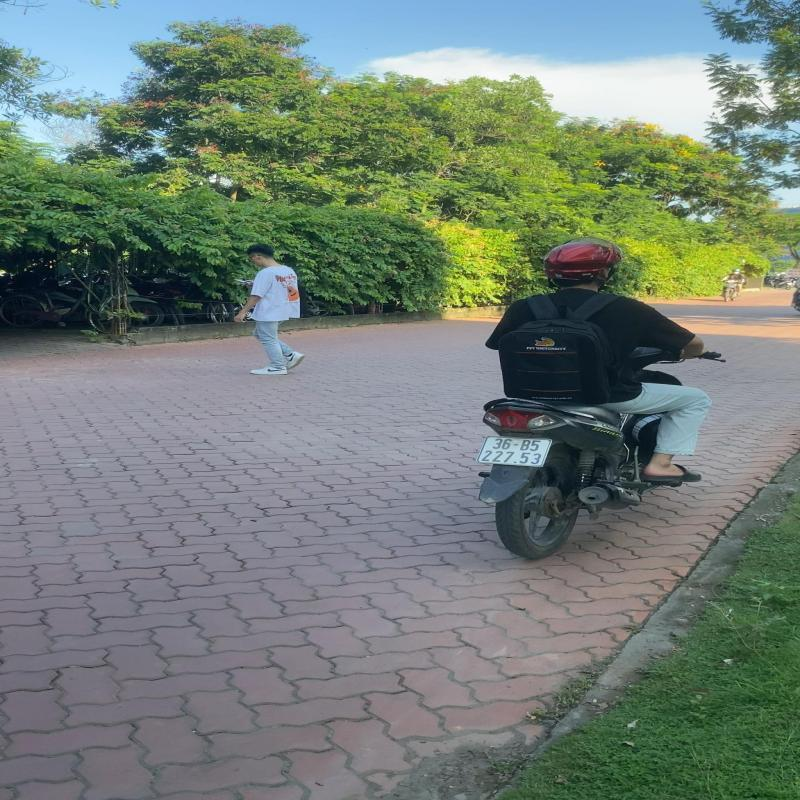helmet: (534, 236, 626, 291)
licenseplate: (478, 434, 554, 470)
motorcyclist: (472, 234, 727, 564)
